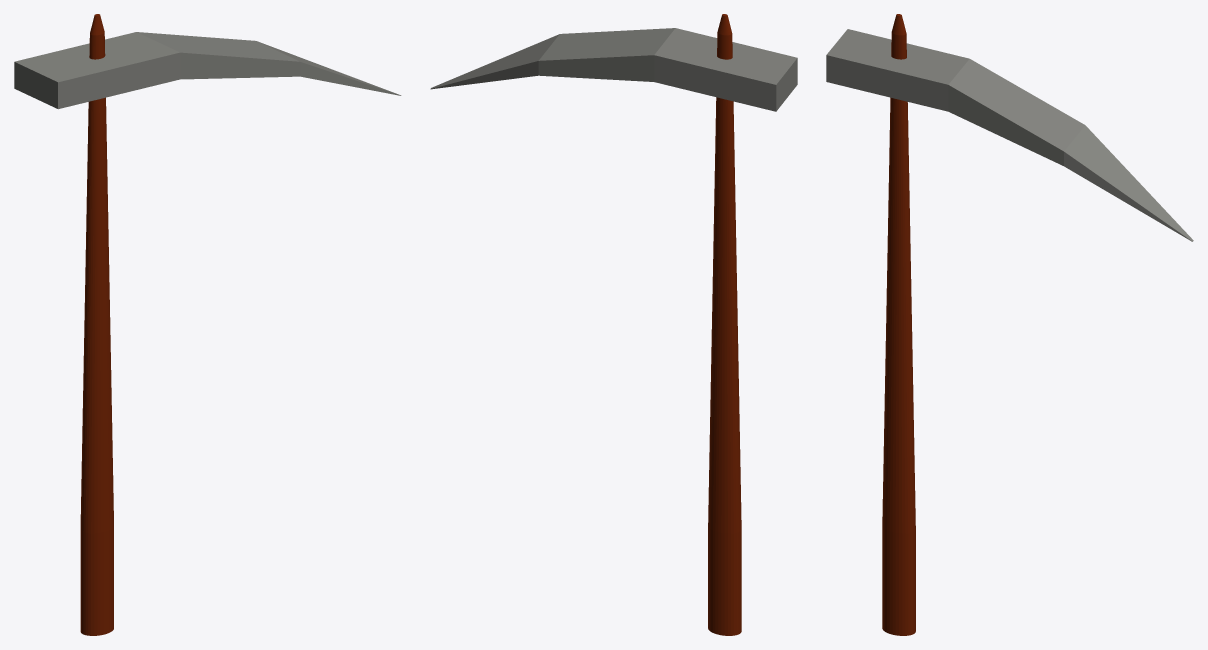
The model's file is Pickaxe.fbx.
The picture shows the model from 3 angles, left to right: view 1: azimuth 30°, elevation 25°; view 2: azimuth 150°, elevation 25°; view 3: azimuth 330°, elevation 25°; orthographic projection.
Visible parts, largest first — view 1: Handle, Pick; view 2: Handle, Pick; view 3: Pick, Handle.
Boxes of the visible parts, box(x1,y1,x2,y2) form: Handle: box(80, 14, 113, 635); Pick: box(14, 32, 401, 109); Handle: box(708, 14, 741, 635); Pick: box(430, 28, 797, 111); Pick: box(826, 29, 1193, 241); Handle: box(882, 14, 915, 635).
Bounding box in the file's own units: 188 × 301 × 30.98.
